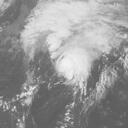cyclone: (54, 50, 93, 87)
